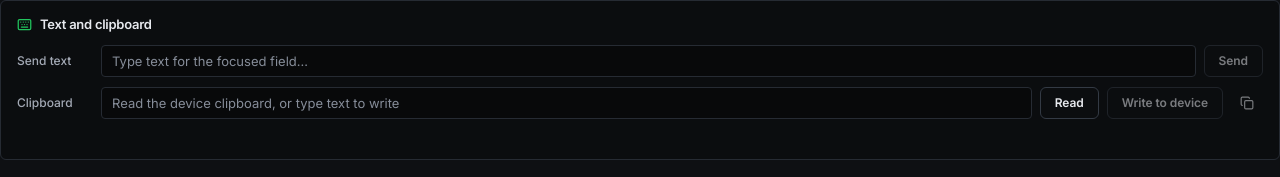
Clipboard › writes the field to the device, only when there is text
Expected: the button "Write to device" is disabled, [1107,86,1223,118]
Type "token-123" into the field labelled "Clipboard" at (566, 102), box [101,86,1032,118]
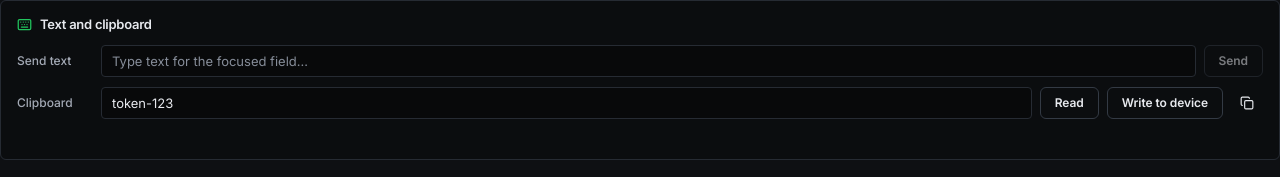
Click the button "Write to device" at (1165, 102), box [1107,86,1223,118]
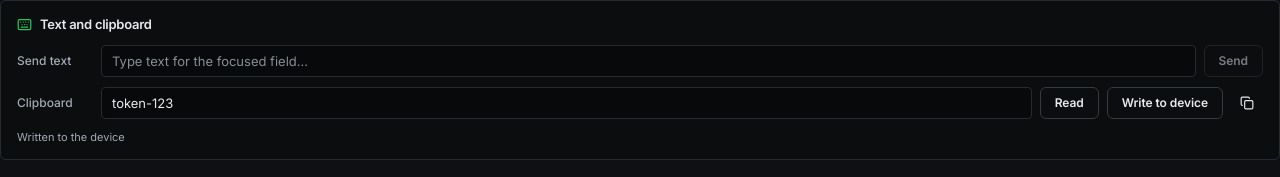
Now the message reads "Written to the device", box [17,130,125,144]
